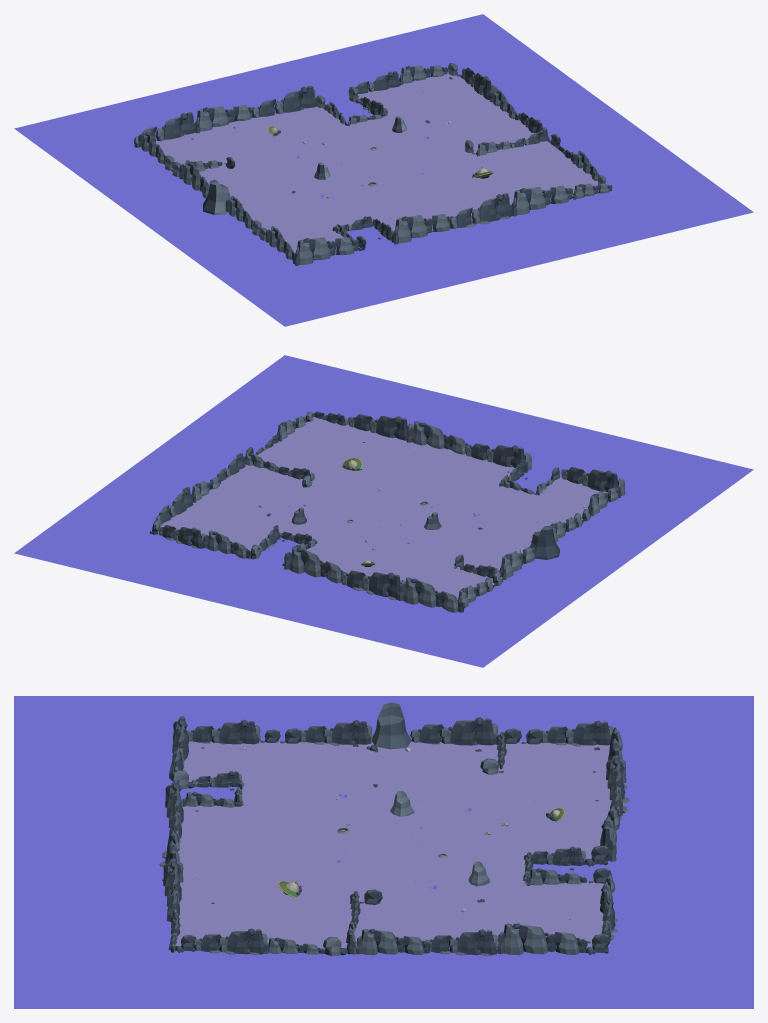
The model's file is Env.fbx.
3 renders of one model, top to bottom at view 1: azimuth 30°, elevation 25°; view 2: azimuth 150°, elevation 25°; view 3: azimuth 270°, elevation 25°, orthographic. The views are drawn at different scales.
Parts seen in each view (by area): view 1: Ground, Cube.001; view 2: Ground, Cube.001; view 3: Ground, Cube.001.
Boxes of the visible parts, <box> form: Ground: <box>14,14,753,326</box>; Cube.001: <box>134,63,612,265</box>; Ground: <box>14,355,753,667</box>; Cube.001: <box>149,411,625,612</box>; Ground: <box>14,696,753,1008</box>; Cube.001: <box>159,702,629,956</box>.
Size of the model in its own units: 28461 by 2127 by 28461.
3 materials, 1 textured.
